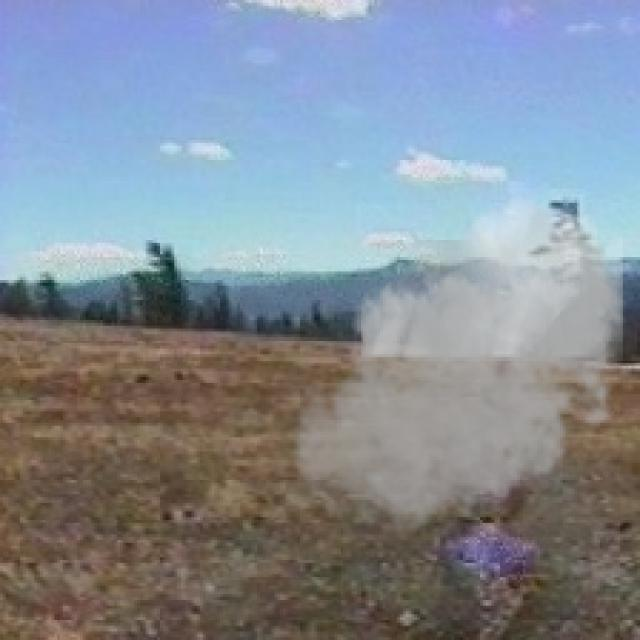Smoke: (286, 188, 638, 546)
